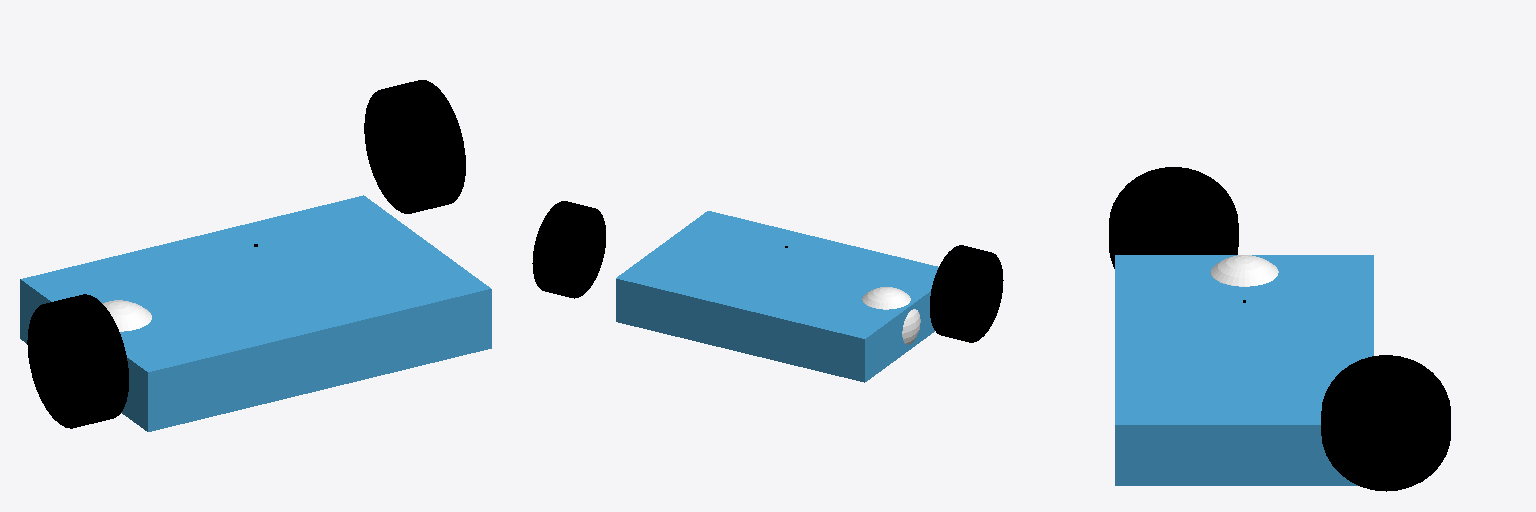
The robot description file, URDF, robot "verde":
<?xml version="1.0" ?>
<!-- =================================================================================== -->
<!-- |    This document was autogenerated by xacro from verde.xacro                    | -->
<!-- |    EDITING THIS FILE BY HAND IS NOT RECOMMENDED                                 | -->
<!-- =================================================================================== -->
<robot name="verde">
  <material name="black">
    <color rgba="0 0 0 1"/>
  </material>
  <link name="base_footprint"/>
  <joint name="base_to_base" type="fixed">
    <parent link="base_footprint"/>
    <child link="base_link"/>
    <origin rpy="0 0 0" xyz="0 0 0"/>
  </joint>
  <link name="base_link">
    <visual>
      <orgin rpy="0 0 0" xyz="0 0 0"/>
      <geometry>
        <box size="0.21 0.135 0.035"/>
        <!-- ver medidas -->
      </geometry>
    </visual>
    <collision>
      <orgin rpy="0 0 0" xyz="0 0 0"/>
      <geometry>
        <box size="0.21 0.135 0.035"/>
      </geometry>
    </collision>
  </link>
  <!--Front left wheel-->
  <joint name="fl_holder_joint" type="revolute">
    <axis xyz="0 0 1"/>
    <limit effort="1000.0" lower="-0.4" upper="0.4" velocity="0.5"/>
    <origin rpy="0 0 0" xyz="0.07 -0.037 0.0175"/>
    <parent link="base_link"/>
    <child link="fl_wheel_link"/>
  </joint>
  <link name="fl_wheel_link">
    <visual>
      <orgin rpy="0 0 0" xyz="0.07 -0.037 0.0175"/>
      <geometry>
        <box size="0 0 0"/>
      </geometry>
    </visual>
  </link>
  <joint name="fl_wheel_joint" type="continuous">
    <axis xyz="0 0 1"/>
    <origin rpy="0 1.57 0" xyz="-0.2 0 0"/>
    <parent link="fl_wheel_link"/>
    <child link="fl_wheel"/>
  </joint>
  <link name="fl_wheel">
    <visual>
      <orgin rpy="0 0 0" xyz="0.07 -0.037 0.0175"/>
      <geometry>
        <cylinder length="0.023" radius="0.034"/>
      </geometry>
      <material name="black"/>
    </visual>
    <collision>
      <orgin rpy="0 0 0" xyz="0.07 -0.037 0.0175"/>
      <geometry>
        <cylinder length="0.023" radius="0.034"/>
      </geometry>
    </collision>
  </link>
  <!--Front right wheel-->
  <joint name="fr_holder_joint" type="revolute">
    <axis xyz="0 0 1"/>
    <limit effort="1000.0" lower="-0.4" upper="0.4" velocity="0.5"/>
    <origin rpy="0 0 0" xyz="0.07 0.037 0.0175"/>
    <parent link="base_link"/>
    <child link="fr_wheel_link"/>
  </joint>
  <link name="fr_wheel_link">
    <visual>
      <orgin rpy="0 0 0" xyz="0.07 0.037 0.0175"/>
      <geometry>
        <box size="0 0 0"/>
      </geometry>
    </visual>
  </link>
  <joint name="fr_wheel_joint" type="continuous">
    <axis xyz="0 0 1"/>
    <origin rpy="0 1.57 0" xyz="0.07 0.037 0.0175"/>
    <parent link="fr_wheel_link"/>
    <child link="fr_wheel"/>
  </joint>
  <link name="fr_wheel">
    <visual>
      <orgin rpy="0 0 0" xyz="0.07 0.037 0.0175"/>
      <geometry>
        <cylinder length="0.023" radius="0.034"/>
      </geometry>
      <material name="black"/>
    </visual>
    <collision>
      <orgin rpy="0 0 0" xyz="0.07 0.037 0.0175"/>
      <geometry>
        <cylinder length="0.023" radius="0.034"/>
      </geometry>
    </collision>
  </link>
  <!-- falta o caster isto é tudo para ver e medir-->
  <link name="fcaster_link">
    <visual>
      <geometry>
        <sphere radius="0.025"/>
      </geometry>
      <origin rpy="0 0 0" xyz="0 0 0"/>
      <material name="white">
        <color rgba="1 1 1 1"/>
      </material>
    </visual>
    <collision>
      <origin rpy="0 0 0" xyz="0 0 0"/>
      <geometry>
        <sphere radius="0.025"/>
      </geometry>
    </collision>
    <inertial>
      <origin rpy="0 0 0" xyz="0 0 0"/>
      <mass value="1"/>
      <inertia ixx="0.0025348958333333334" ixy="0" ixz="0" iyy="0.0025348958333333334" iyz="0" izz="0.0034031250000000003"/>
    </inertial>
  </link>
  <joint name="fcaster_joint" type="revolute">
    <parent link="base_link"/>
    <child link="fcaster_link"/>
    <origin rpy="0 0 0" xyz="-0.084 0 0"/>
    <limit effort="1" lower="0" upper="0" velocity="5.0"/>
  </joint>
  <link name="base_scan">
    <visual>
      <geometry>
        <cylinder length="0.0" radius="0.0"/>
      </geometry>
      <origin rpy="0 0 3.1415927" xyz="-0.048 0 0.0"/>
      <material name="black">
        <color rgba="0 0 0 1"/>
      </material>
    </visual>
  </link>
  <joint name="base_to_scanner" type="fixed">
    <parent link="base_link"/>
    <child link="base_scan"/>
    <origin rpy="0 0 0" xyz="-0.048 0 0.157"/>
  </joint>
  <link name="imu_link"/>
  <joint name="imu_joint" type="fixed">
    <parent link="base_link"/>
    <child link="imu_link"/>
    <origin rpy="0 0 0" xyz="0 0 0"/>
  </joint>
  <!--************* ROBOT'S CAMERA **************-->
  <link name="camera_link">
    <visual>
      <geometry>
        <cylinder length="0.001" radius="0.001"/>
      </geometry>
      <origin rpy="0 0 1.57" xyz="0 0 0"/>
      <material name="black">
        <color rgba="0 0 0 1"/>
      </material>
    </visual>
  </link>
  <joint name="camera_joint" type="fixed">
    <parent link="base_link"/>
    <child link="camera_link"/>
    <origin rpy="0 0 0" xyz="0.0 0.0 0.04"/>
  </joint>
</robot>

--- Render facts (derived) ---
The picture shows the robot from 3 angles, left to right: view 1: azimuth 30°, elevation 25°; view 2: azimuth 150°, elevation 25°; view 3: azimuth 270°, elevation 25°; orthographic projection.
Model verde with 10 links and 9 joints (3 revolute, 2 continuous, 4 fixed), rooted at base_footprint, posed every joint at zero.
Visible links, largest first — view 1: base_link, fr_wheel, fl_wheel, fcaster_link; view 2: base_link, fl_wheel, fr_wheel, fcaster_link; view 3: base_link, fr_wheel, fl_wheel, fcaster_link.
Boxes of the visible links, box(x1,y1,x2,y2) form: base_link: box(20, 195, 491, 431); fr_wheel: box(364, 80, 465, 213); fl_wheel: box(27, 294, 128, 428); fcaster_link: box(102, 300, 151, 331); base_link: box(616, 211, 938, 382); fl_wheel: box(930, 245, 1003, 342); fr_wheel: box(532, 201, 605, 298); fcaster_link: box(862, 287, 920, 344); base_link: box(1115, 255, 1373, 485); fr_wheel: box(1321, 355, 1450, 491); fl_wheel: box(1109, 167, 1238, 268); fcaster_link: box(1210, 255, 1278, 286).
Bounding box of the posed robot: 0.2931 × 0.179 × 0.182 m (x, y, z).
Geometry: primitives only (box / cylinder / sphere), no mesh files.